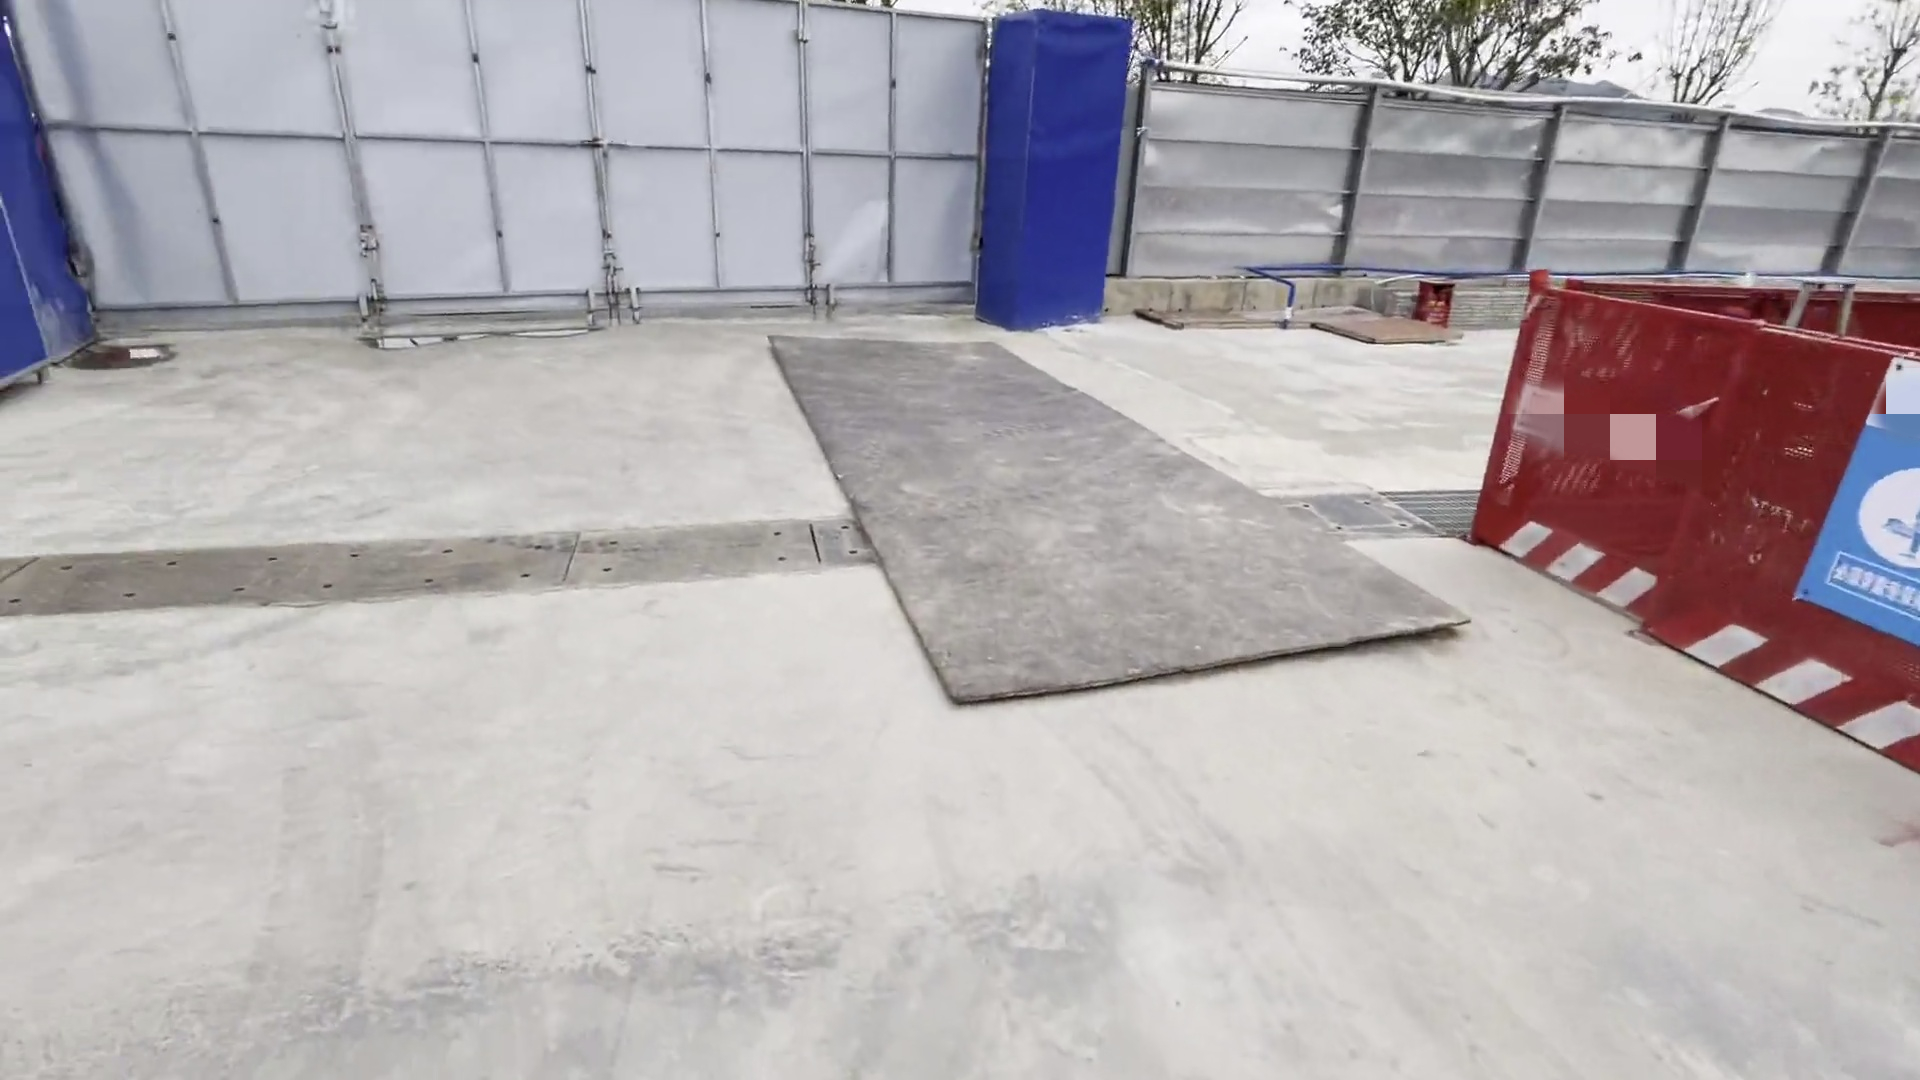fence: (1465, 266, 1920, 789)
